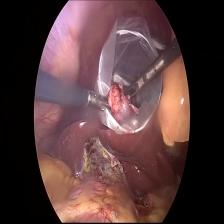Grasper: (126, 55, 167, 98), (86, 89, 110, 112)
Specimen Bag: (96, 17, 165, 135)
